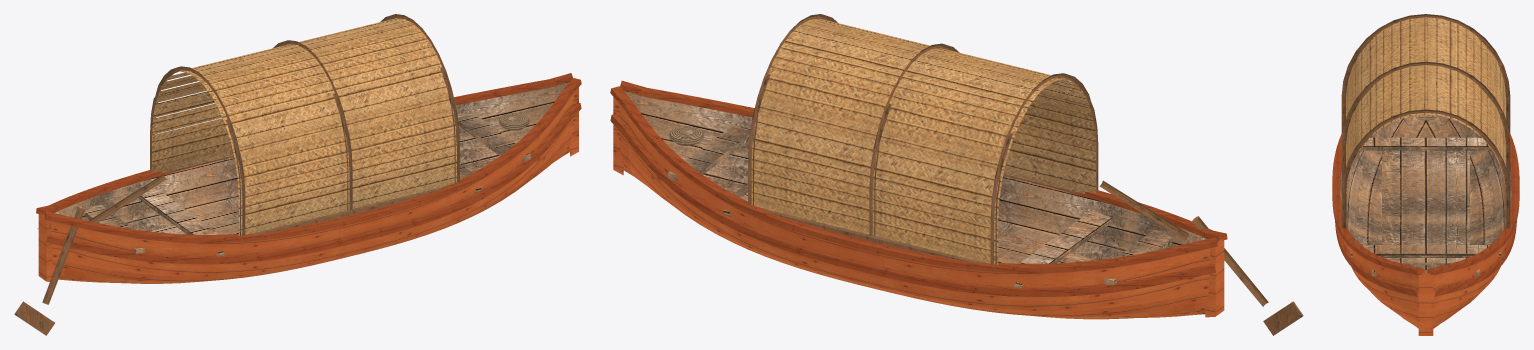
File: qm_canopy.glb
3 renders of one model, left to right at view 1: azimuth 30°, elevation 25°; view 2: azimuth 150°, elevation 25°; view 3: azimuth 270°, elevation 25°, orthographic. The views are drawn at different scales.
Visible parts, largest first — view 1: weave, hull, inside, wale, pole, weave_in; view 2: weave, hull, inside, wale, weave_in, pole, rope; view 3: inside, weave, hull, wale, pole.
Part boxes in pixels (<box>): weave: <box>178,18,456,235</box>; hull: <box>38,87,578,283</box>; inside: <box>44,82,569,256</box>; wale: <box>36,73,581,264</box>; pole: <box>14,14,459,335</box>; weave_in: <box>152,72,233,172</box>; weave: <box>751,18,1065,264</box>; hull: <box>613,97,1224,319</box>; inside: <box>624,91,1218,317</box>; wale: <box>610,80,1227,296</box>; weave_in: <box>1003,79,1095,193</box>; pole: <box>748,14,1303,335</box>; rope: <box>669,126,703,145</box>; inside: <box>1340,114,1511,328</box>; weave: <box>1346,17,1505,192</box>; hull: <box>1343,239,1508,335</box>; wale: <box>1332,133,1519,296</box>; pole: <box>1341,14,1510,228</box>.
Size of the model in its own units: 7.7 by 2.53 by 2.34.
Materials: 8 (8 with a texture image).
